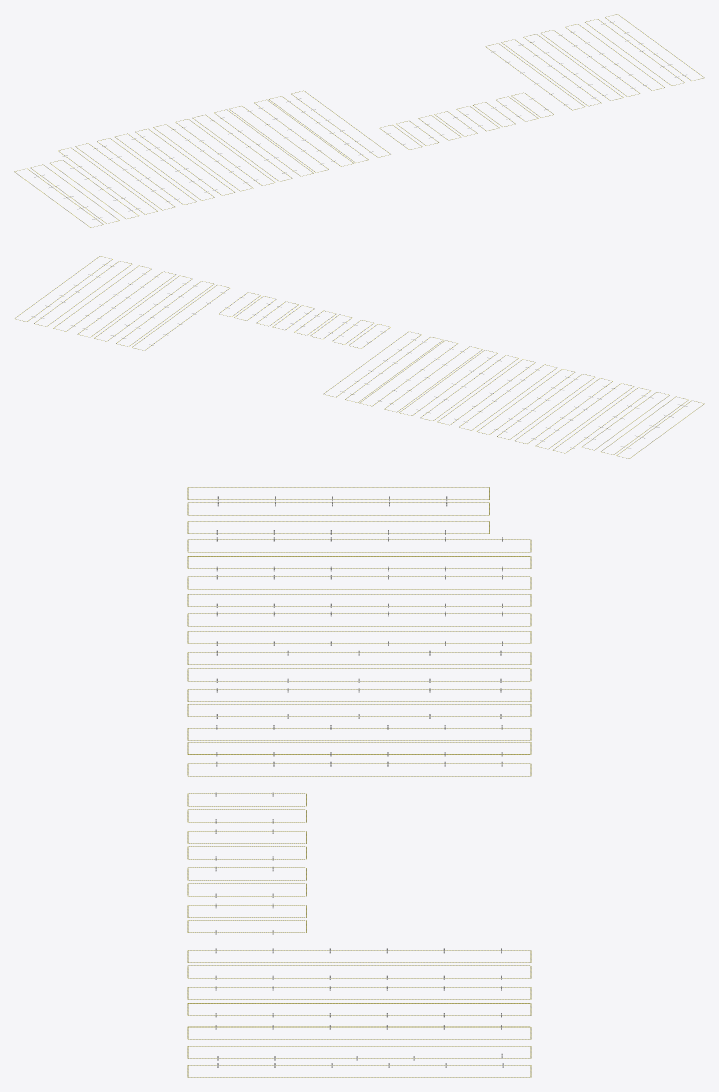
File: lineAndCode.glb
3 views of the same model, one above another, from view 1: azimuth 30°, elevation 25°; view 2: azimuth 150°, elevation 25°; view 3: azimuth 270°, elevation 25° (orthographic). The views are drawn at different scales.
Size of the model in its own units: 4334 by 3.41 by 1067.
Materials: 2 (2 with a texture image).
